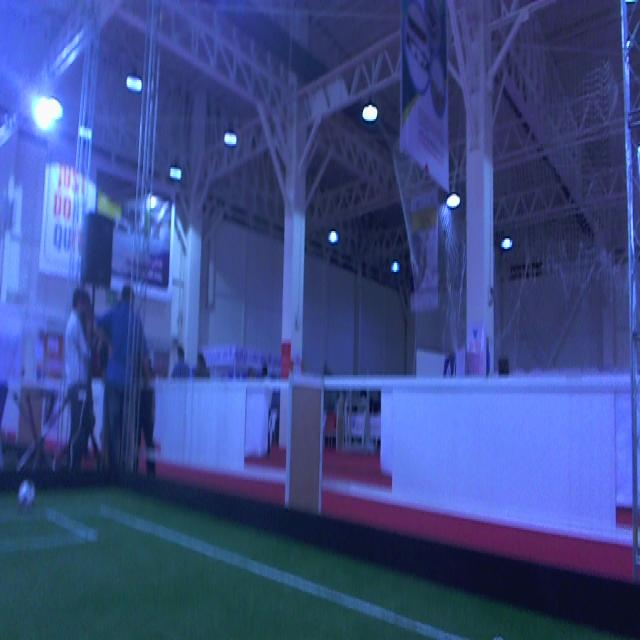ball: (17, 480, 36, 516)
